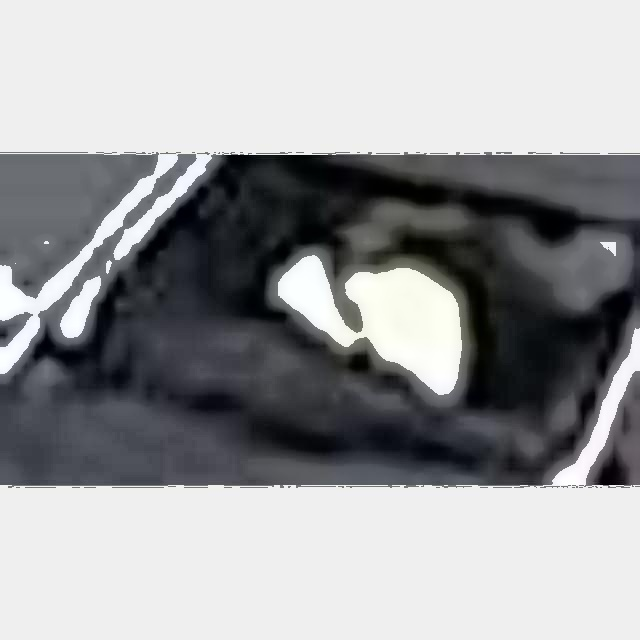pakai: (227, 217, 465, 403)
